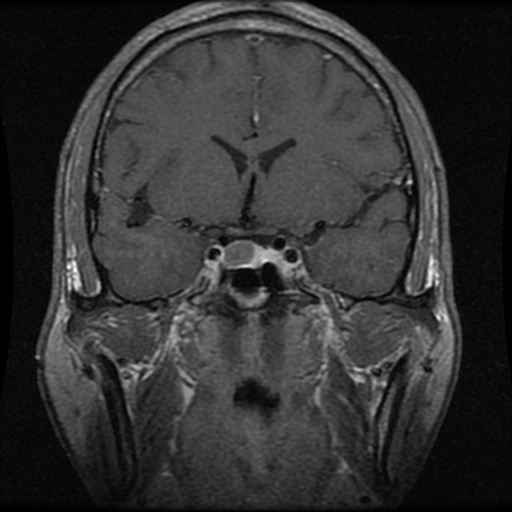pituitary: (220, 241, 267, 268)
